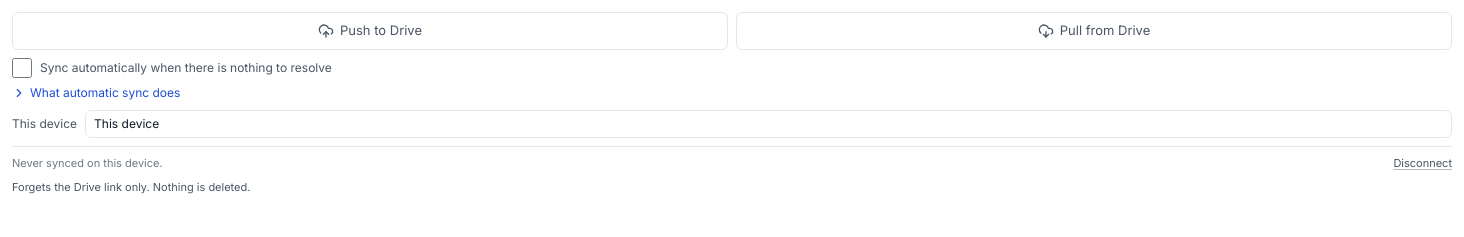
Test: DriveSyncControls › reconnects and retries once when the token has expired, and succeeds
Click the button "Pull from Drive": (1094, 31) x1=736 y1=12 x2=1452 y2=50
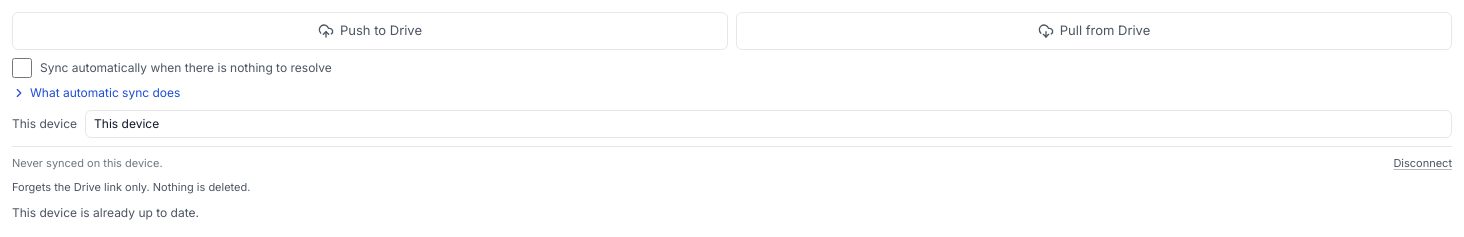
expect the text "This device is already up to date." is shown: met, box x1=12 y1=204 x2=199 y2=220
